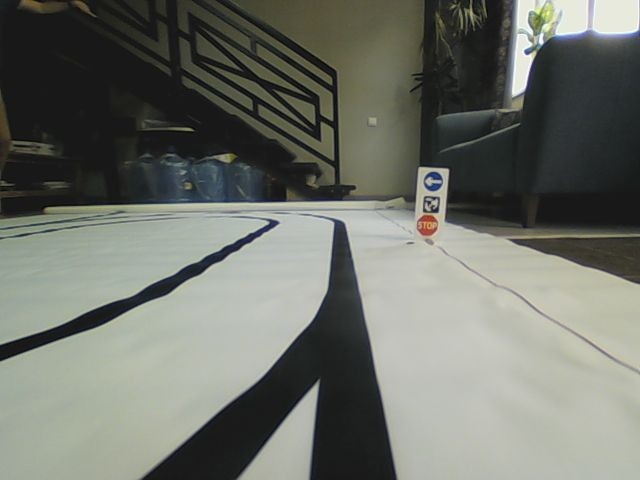Stop: (416, 214, 439, 237)
